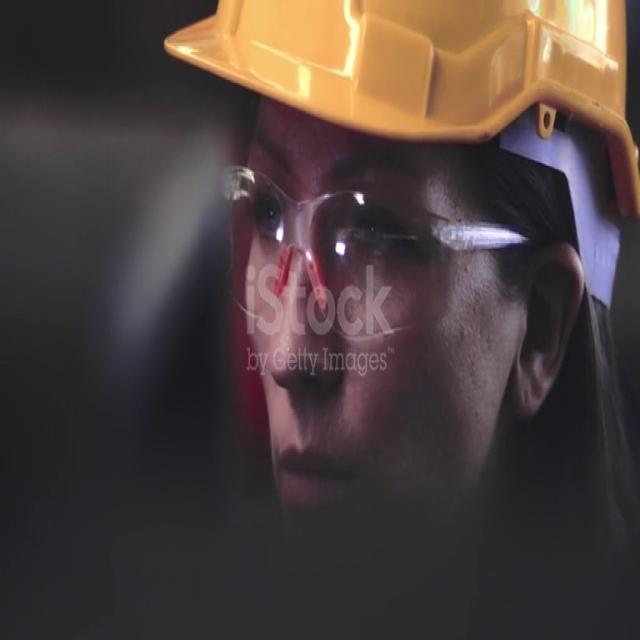capacete: (153, 0, 640, 261)
